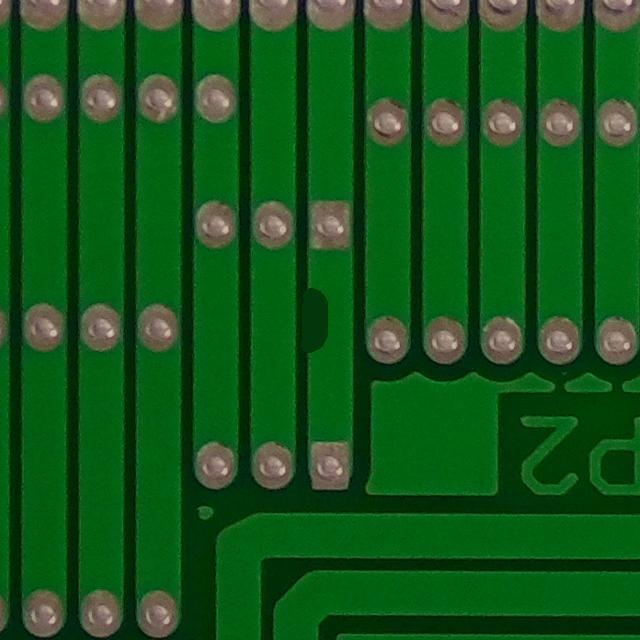mouse_bite: (291, 278, 349, 363)
